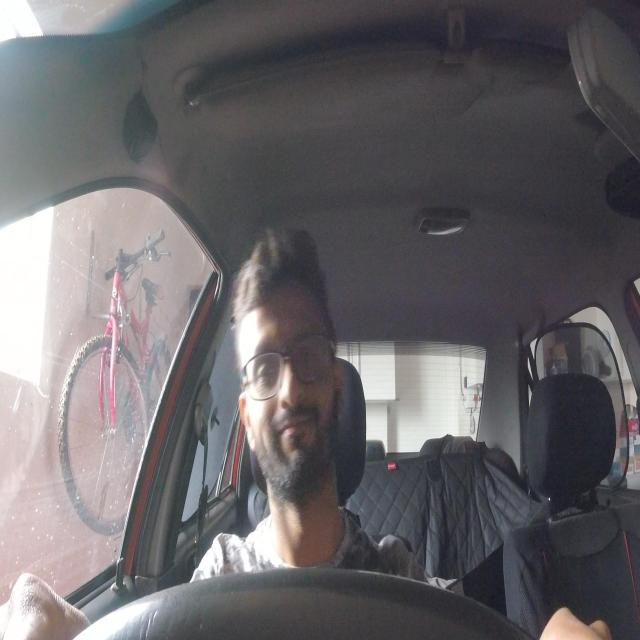open: (251, 334, 281, 400)
